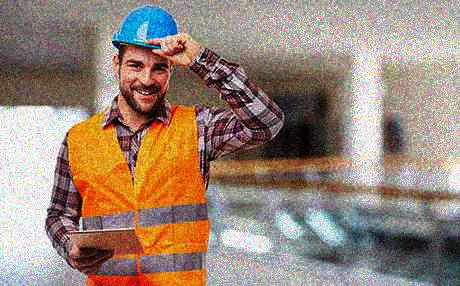helmet: (110, 4, 182, 111)
